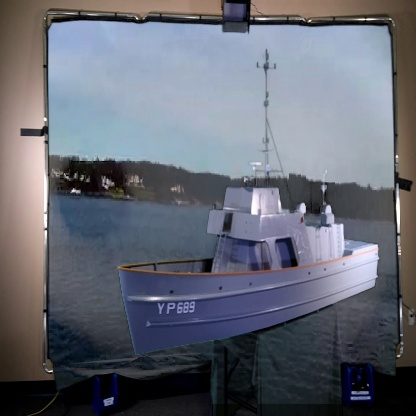YP689: (117, 45, 381, 358)
